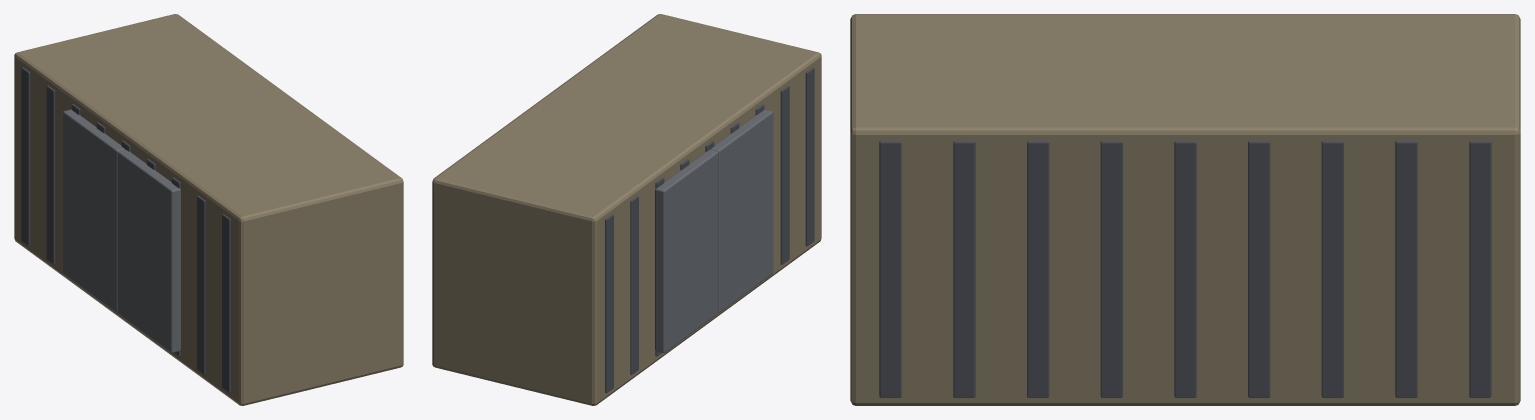
The model's file is prop_container.fbx.
The picture shows the model from 3 angles, left to right: view 1: azimuth 30°, elevation 25°; view 2: azimuth 150°, elevation 25°; view 3: azimuth 270°, elevation 25°; orthographic projection. The views are drawn at different scales.
Parts seen in each view (by area): view 1: SM_Prop_Container; view 2: SM_Prop_Container; view 3: SM_Prop_Container.
Part boxes in pixels (left/top/right/bottom): SM_Prop_Container: left=14, top=14, right=403, bottom=405; SM_Prop_Container: left=432, top=14, right=821, bottom=405; SM_Prop_Container: left=850, top=14, right=1520, bottom=405.
Size of what is drawn, in the model's own units: 107 by 110 by 240.
